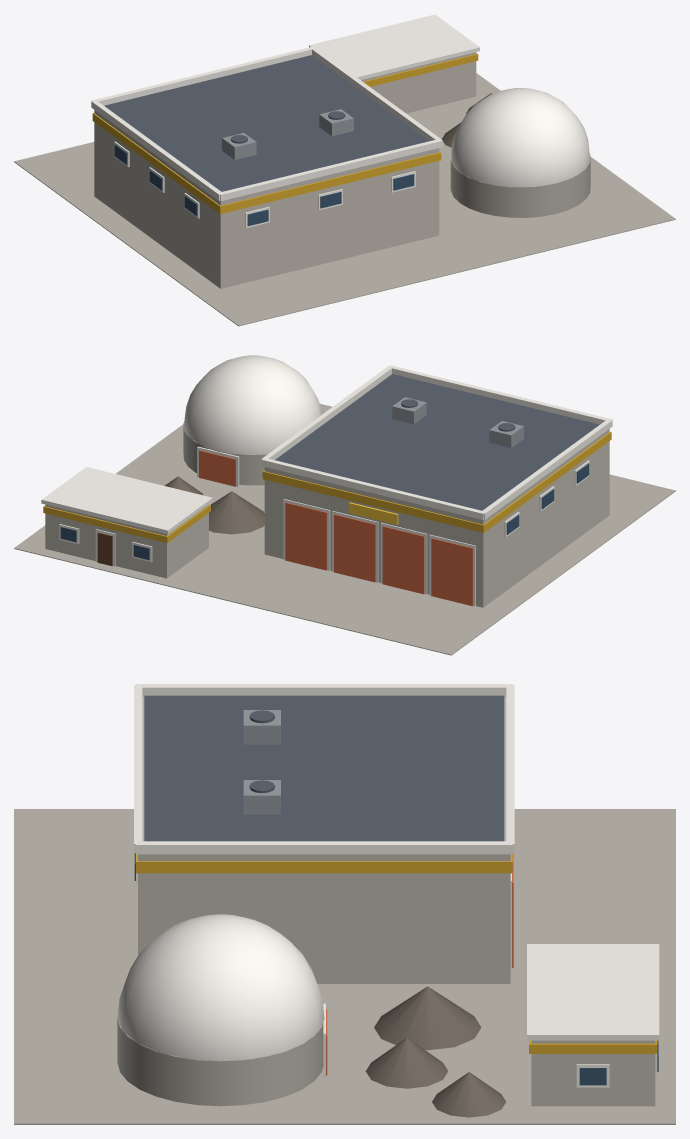
File: works.glb
The picture shows the model from 3 angles, top to bottom: view 1: azimuth 30°, elevation 25°; view 2: azimuth 150°, elevation 25°; view 3: azimuth 270°, elevation 25°; orthographic projection. The views are drawn at different scales.
Visible parts, largest first — view 1: yard, garage, roof, salt_dome, parapet (×4), office_roof, salt_dome_base, accent_stripe (×2), office, ac_unit_body (×2); view 2: yard, roof, garage, garage_door (×5), salt_dome, parapet (×4), office_roof, office, accent_stripe (×2), garage_door_frame (×4), grit_pile, salt_dome_base (+3 smaller); view 3: yard, roof, garage, salt_dome, office_roof, parapet (×4), salt_dome_base, grit_pile (×3), office, accent_stripe (×2), ac_unit_body (×2).
Part boxes in pixels (<box>): yard: <box>14,73,675,326</box>; garage: <box>94,110,439,288</box>; roof: <box>104,55,428,191</box>; salt_dome: <box>451,88,590,187</box>; parapet (×4): <box>91,46,442,200</box>; office_roof: <box>309,14,479,79</box>; salt_dome_base: <box>450,154,590,217</box>; accent_stripe (×2): <box>92,53,478,214</box>; office: <box>361,52,476,113</box>; ac_unit_body (×2): <box>222,109,353,159</box>; yard: <box>14,403,675,655</box>; roof: <box>275,374,599,510</box>; garage: <box>264,429,609,607</box>; garage_door (×5): <box>199,450,472,606</box>; salt_dome: <box>183,355,322,454</box>; parapet (×4): <box>261,365,612,519</box>; office_roof: <box>41,467,212,534</box>; office: <box>45,504,208,578</box>; accent_stripe (×2): <box>43,431,611,543</box>; garage_door_frame (×4): <box>283,499,475,606</box>; grit_pile: <box>209,491,264,534</box>; salt_dome_base: <box>183,422,267,485</box>; yard: <box>14,809,675,1124</box>; roof: <box>144,695,504,841</box>; garage: <box>138,697,510,983</box>; salt_dome: <box>117,914,324,1061</box>; office_roof: <box>527,944,659,1040</box>; parapet (×4): <box>134,684,514,854</box>; salt_dome_base: <box>117,1018,324,1106</box>; grit_pile (×3): <box>365,986,505,1117</box>; office: <box>531,1040,655,1106</box>; accent_stripe (×2): <box>136,854,657,1053</box>; ac_unit_body (×2): <box>243,710,280,814</box>.
Bounding box in the file's own units: 36 × 8.3 × 32.
